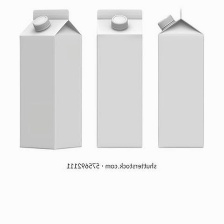carton: (15, 6, 86, 154), (150, 4, 207, 151), (91, 6, 146, 152)
